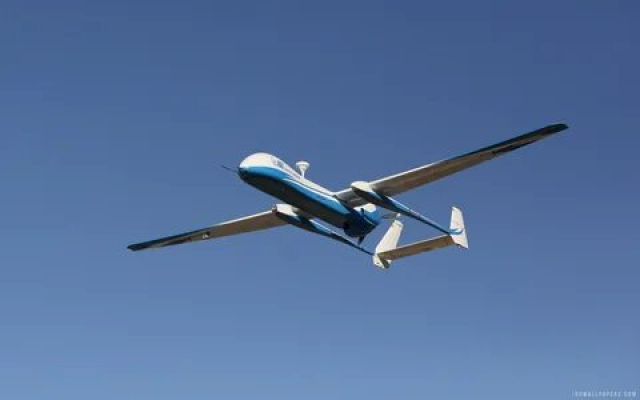military drone: (126, 123, 568, 269)
